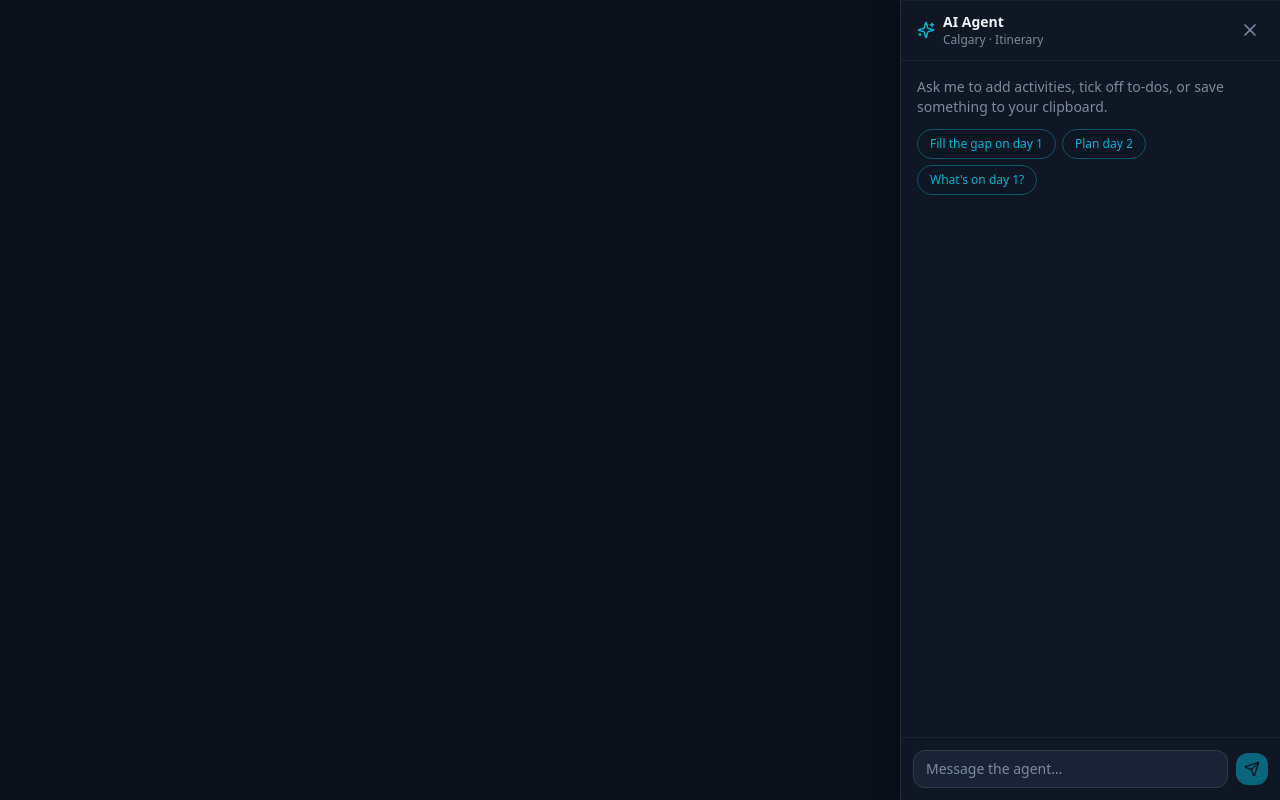
it: after a reply › offers what the assistant proposed, and not its marker
Type "plan day 2" into the field with test id "agent-input".
click(1070, 769); type("plan day 2")  # box [913,750,1228,788]
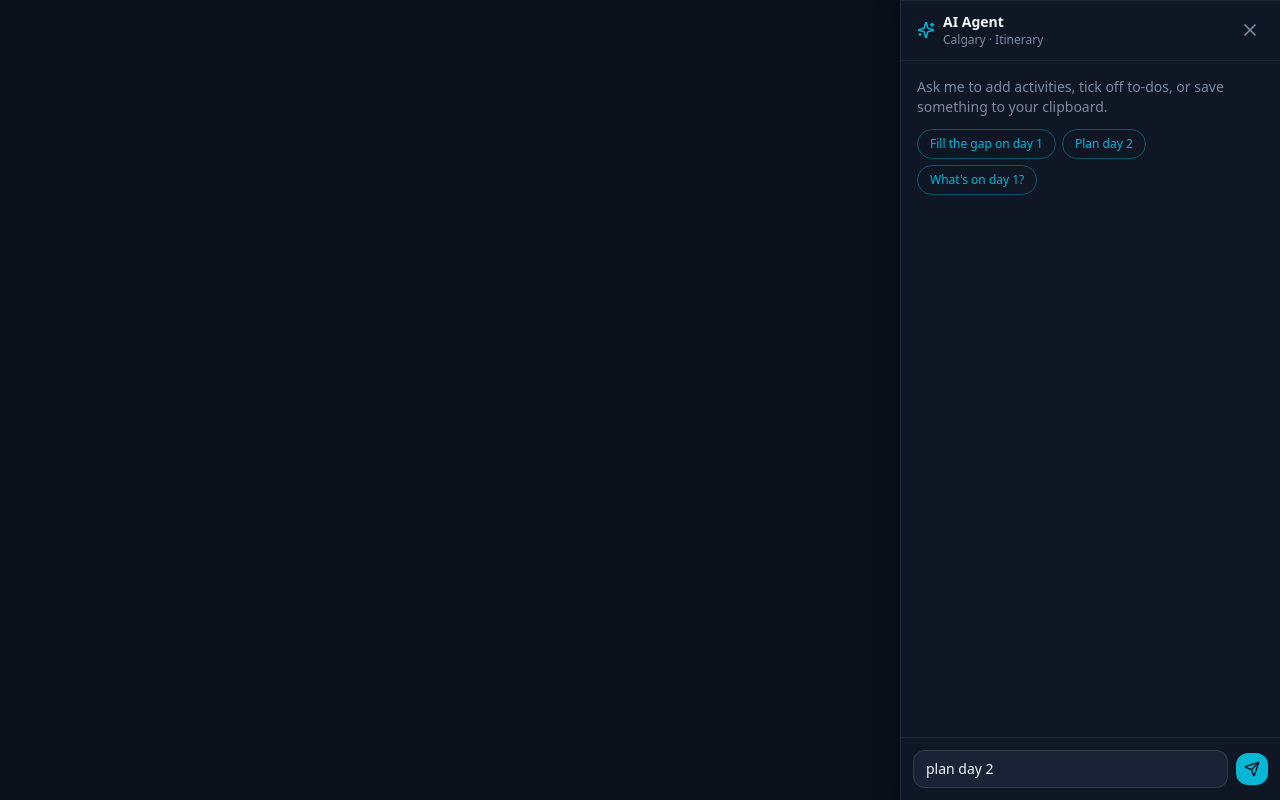
Click the button with test id "agent-send".
click(1252, 769)  # box [1236,753,1268,785]
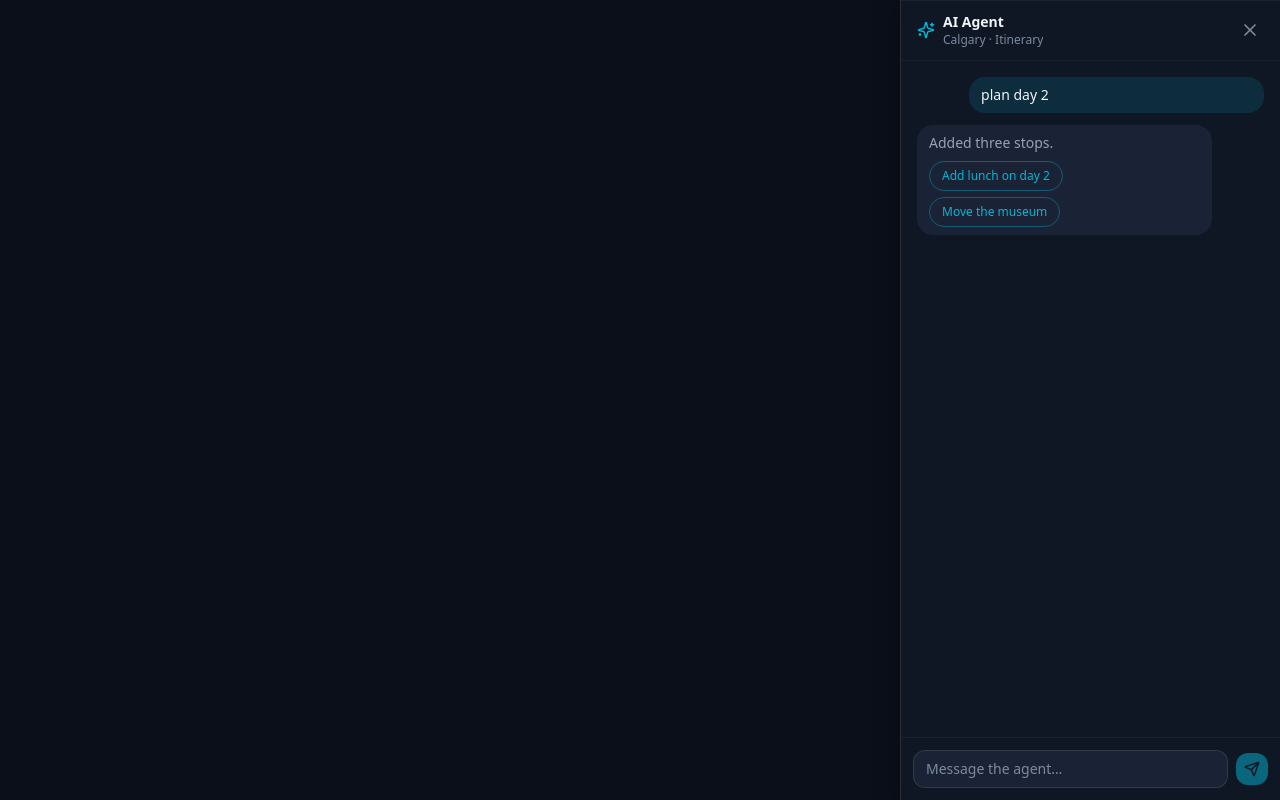
Now the element with test id "agent-msg-assistant" shows "Added three stops.", box [929,133,1053,152]
Now the button with test id "agent-suggestion-0" reads "Add lunch on day 2", box [929,161,1063,191]
Now the button with test id "agent-suggestion-1" reads "Move the museum", box [929,197,1060,227]
